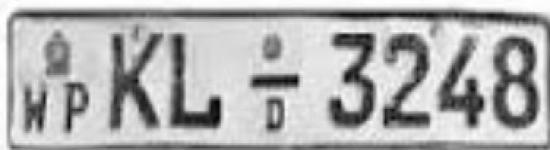-: (245, 68, 304, 95)
2: (378, 28, 435, 134)
3: (325, 28, 380, 132)
4: (437, 28, 490, 135)
8: (489, 28, 544, 136)
K: (104, 26, 168, 135)
L: (167, 28, 228, 138)
P: (57, 76, 95, 136)
W: (21, 78, 52, 134)
